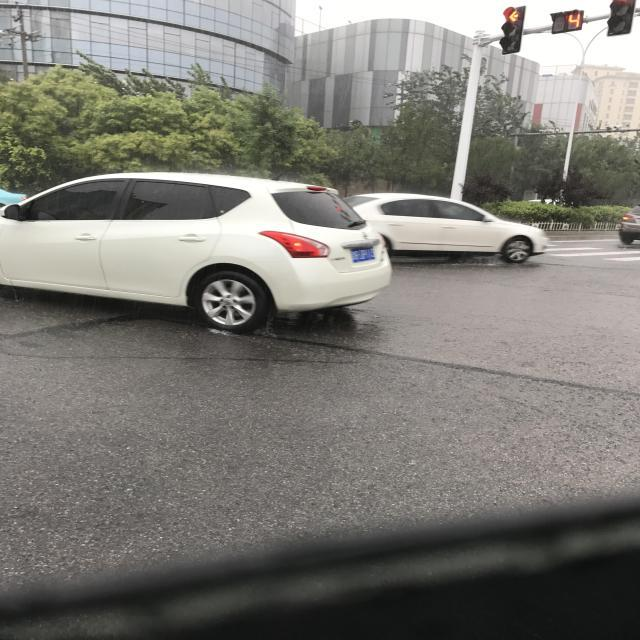car: (172, 247, 331, 640), (192, 94, 264, 300)
